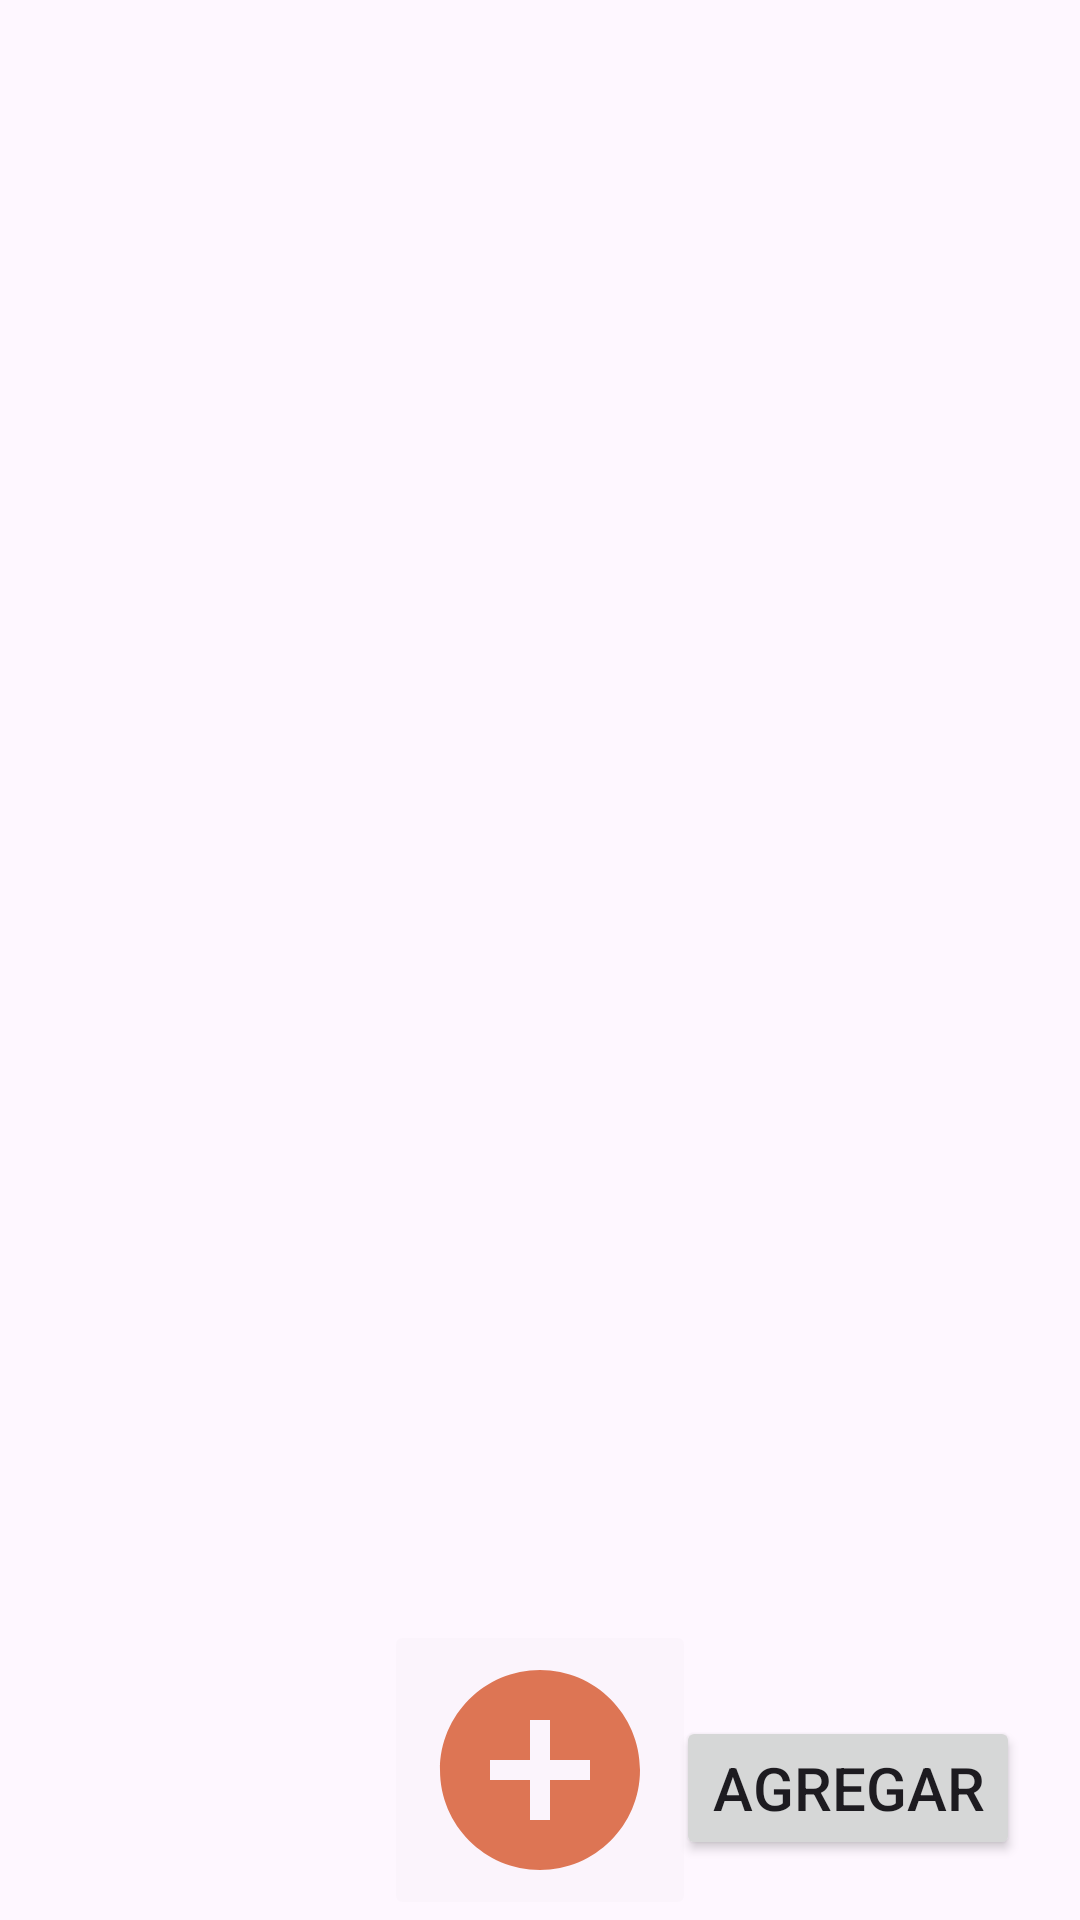

Icons on this 1080px x 1920px Android screen, each with its box as bbox(x1, y1, x2, y2):
add circle: bbox(440, 1670, 640, 1870)
